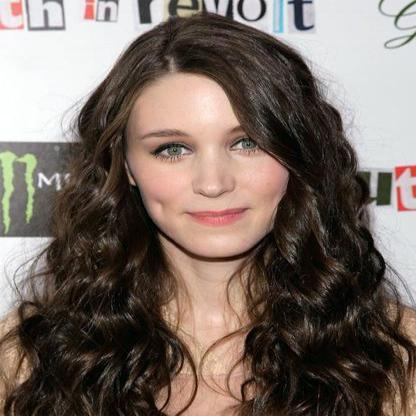long-hair: (5, 258, 407, 344)
